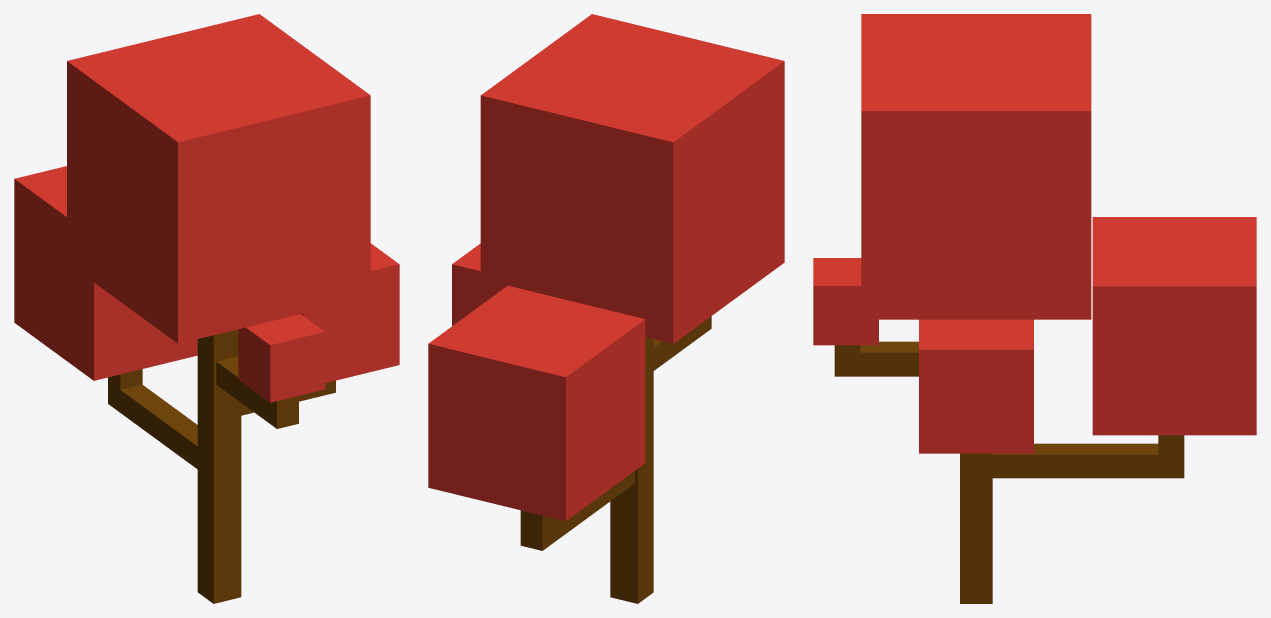
Rendered from tree2.fbx.
3 renders of one model, left to right at view 1: azimuth 30°, elevation 25°; view 2: azimuth 150°, elevation 25°; view 3: azimuth 270°, elevation 25°, orthographic. The views are drawn at different scales.
Visible parts, largest first — view 1: tree.001; view 2: tree.001; view 3: tree.001.
Part boxes in pixels (x1,y1,x2,y2): tree.001: [14, 14, 399, 603]; tree.001: [428, 14, 784, 603]; tree.001: [813, 14, 1256, 603].
Bounding box in the file's own units: 906 × 1795 × 1350.
